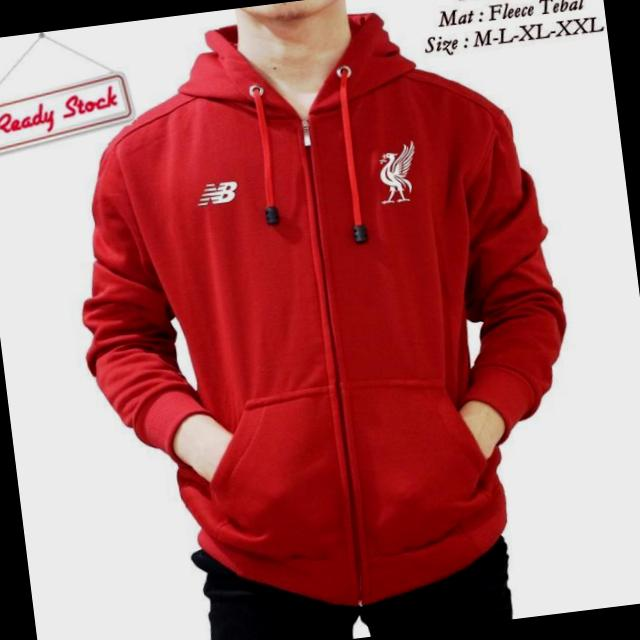sweater: (48, 0, 601, 628)
